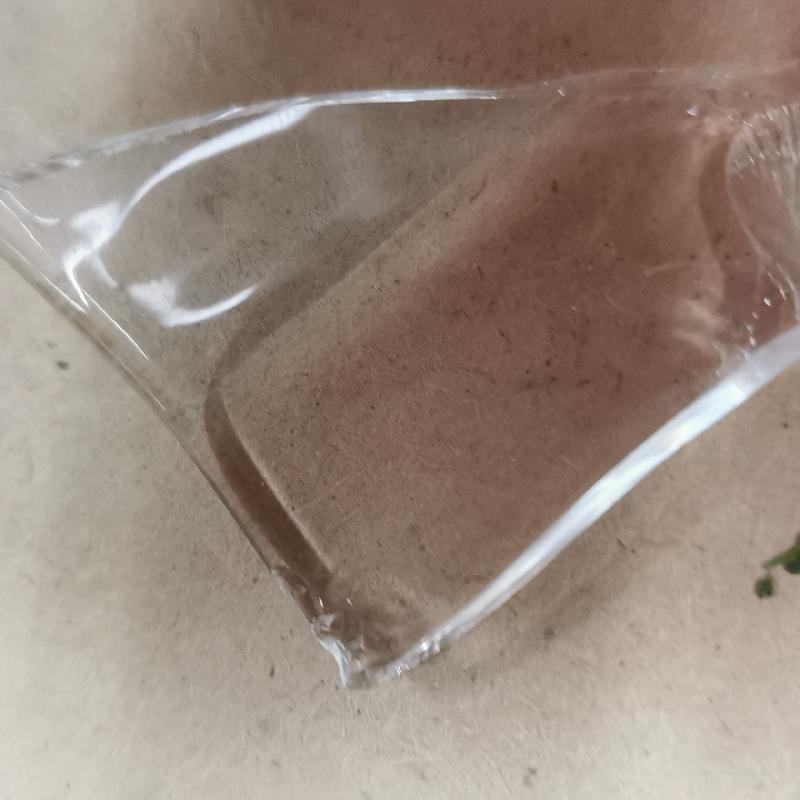glass: (22, 57, 800, 689)
